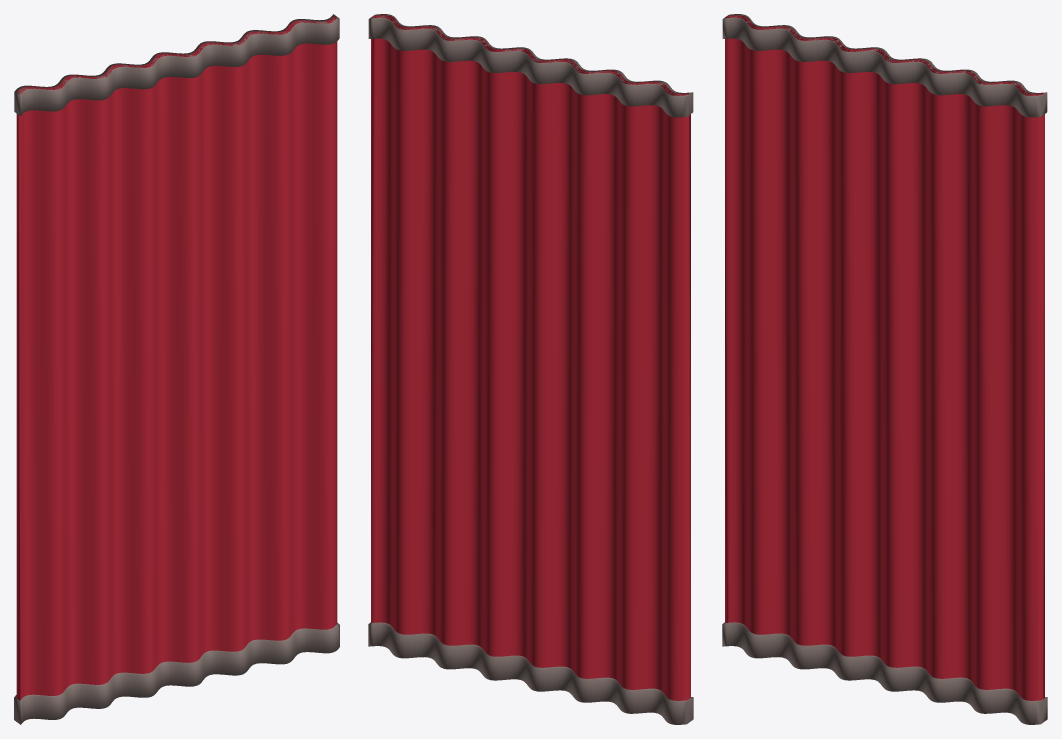
Rendered from MessyMemoryCurtain.obj.
3 renders of one model, left to right at view 1: azimuth 30°, elevation 25°; view 2: azimuth 150°, elevation 25°; view 3: azimuth 330°, elevation 25°, orthographic.
Visible parts, largest first — view 1: Cloth, Trim; view 2: Cloth, Trim; view 3: Cloth, Trim.
Boxes of the visible parts, box(x1,y1,x2,y2) form: Cloth: box(16, 15, 337, 700); Trim: box(14, 14, 339, 724); Cloth: box(371, 15, 690, 700); Trim: box(368, 14, 693, 724); Cloth: box(725, 15, 1044, 700); Trim: box(722, 14, 1047, 724).
Size of the model in its own units: 6.64 by 12.5 by 0.52.
